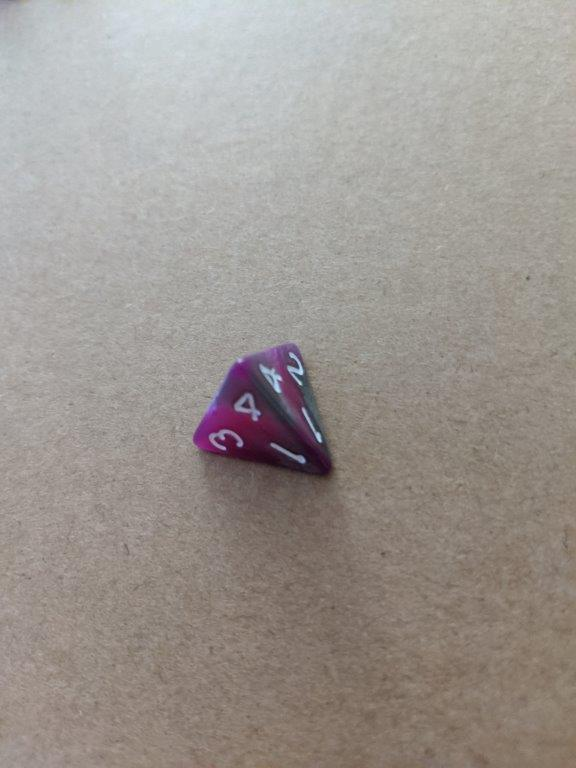d4-4: (189, 341, 338, 482)
